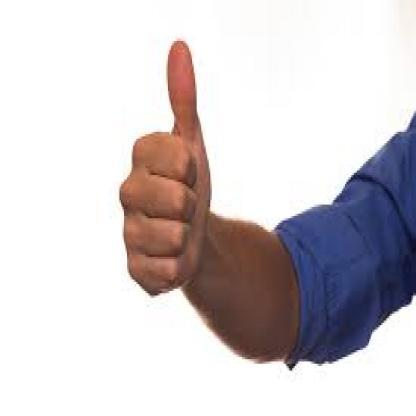thumb_up: (110, 37, 226, 300)
